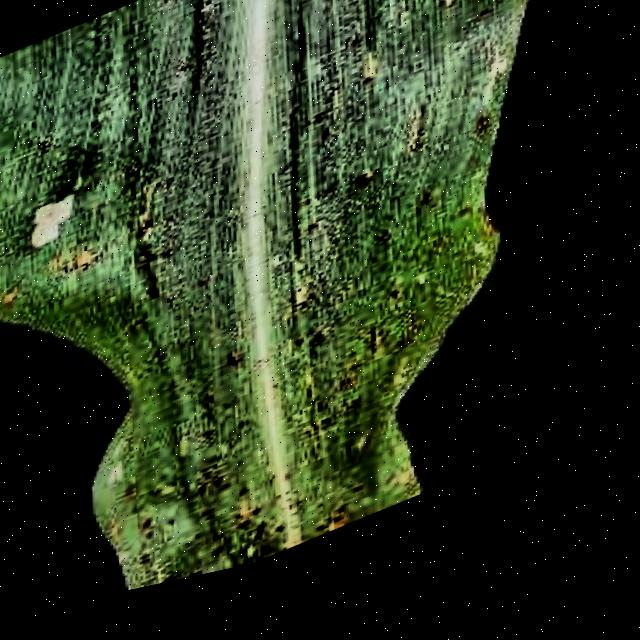common_rust: (3, 0, 640, 617)
